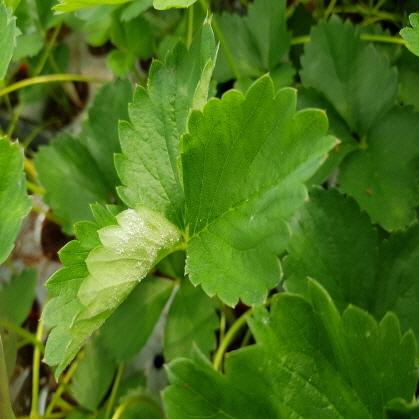Powdery Mildew Leaf: (37, 202, 186, 383)
